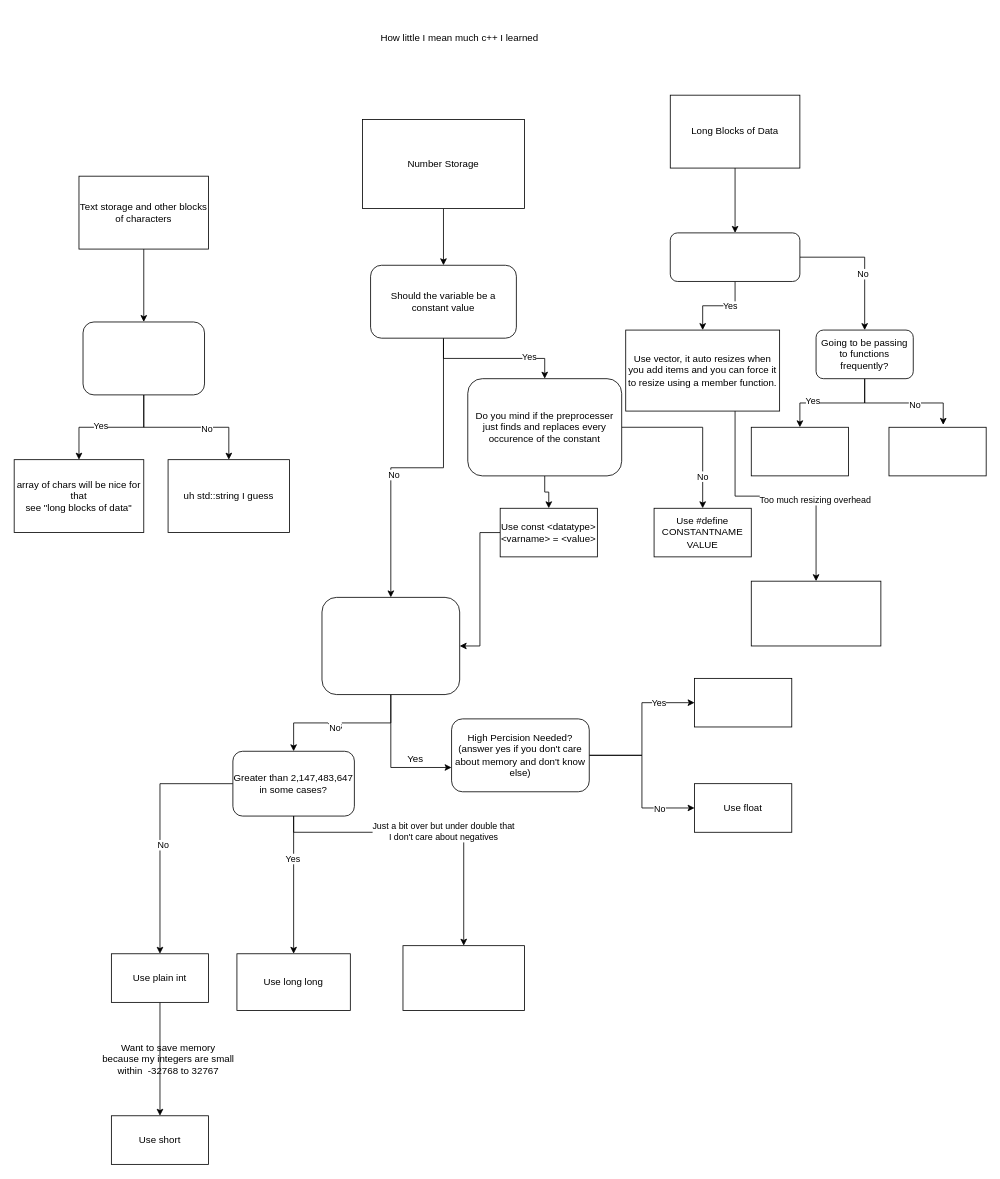
Image size: 1000x1179. Some labels were removed from this diagram. The shapes that lost their labels are listed below. From the top down, each one's centre as x and y in pixels, then its label:
At (734,256): "Want it to be resizable?".
At (143,358): "I want to easily be able to change a character at an index".
At (799,451): "std::array".
At (937,451): "Use a standard c++ array datatype variablename[size].".
At (815,613): "Put the initial size or expected size as the first value of the constructor.".
At (390,646): "Datatype Finding Will this hold only integer values?".
At (743,702): "Use double".
At (463,977): "Use unsigned int.".
